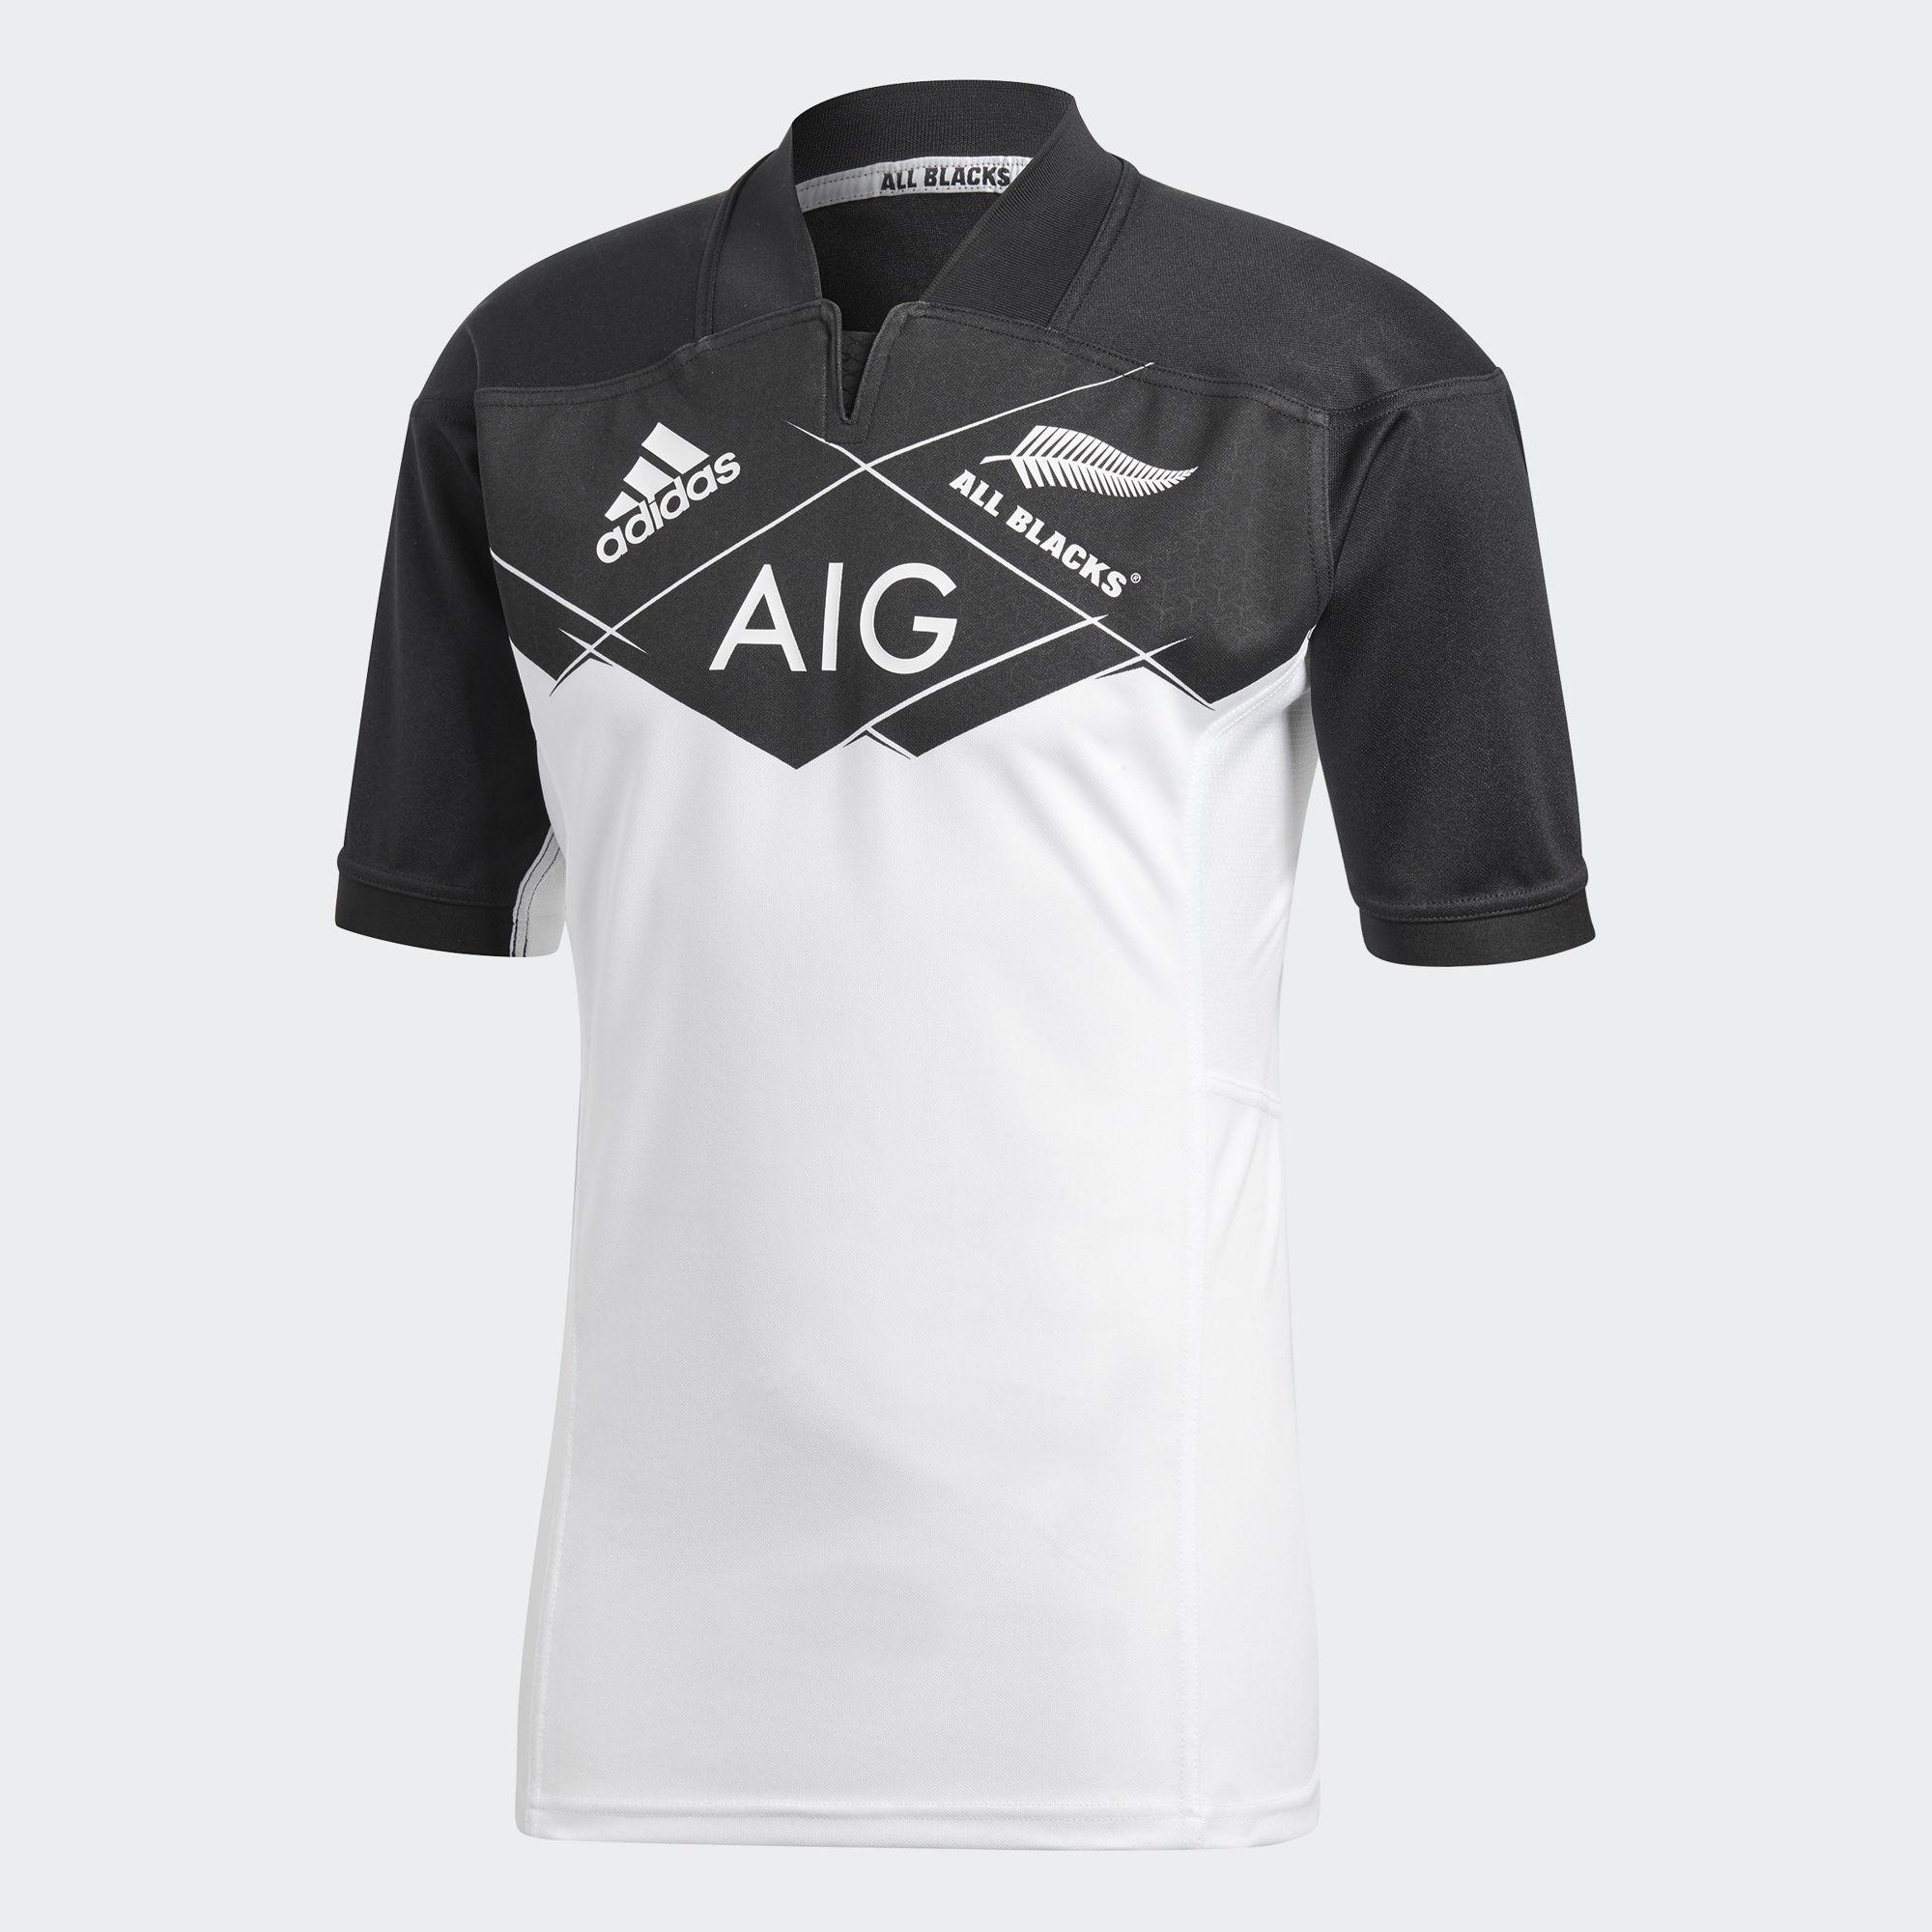teeshirt: (322, 67, 1661, 1882)
